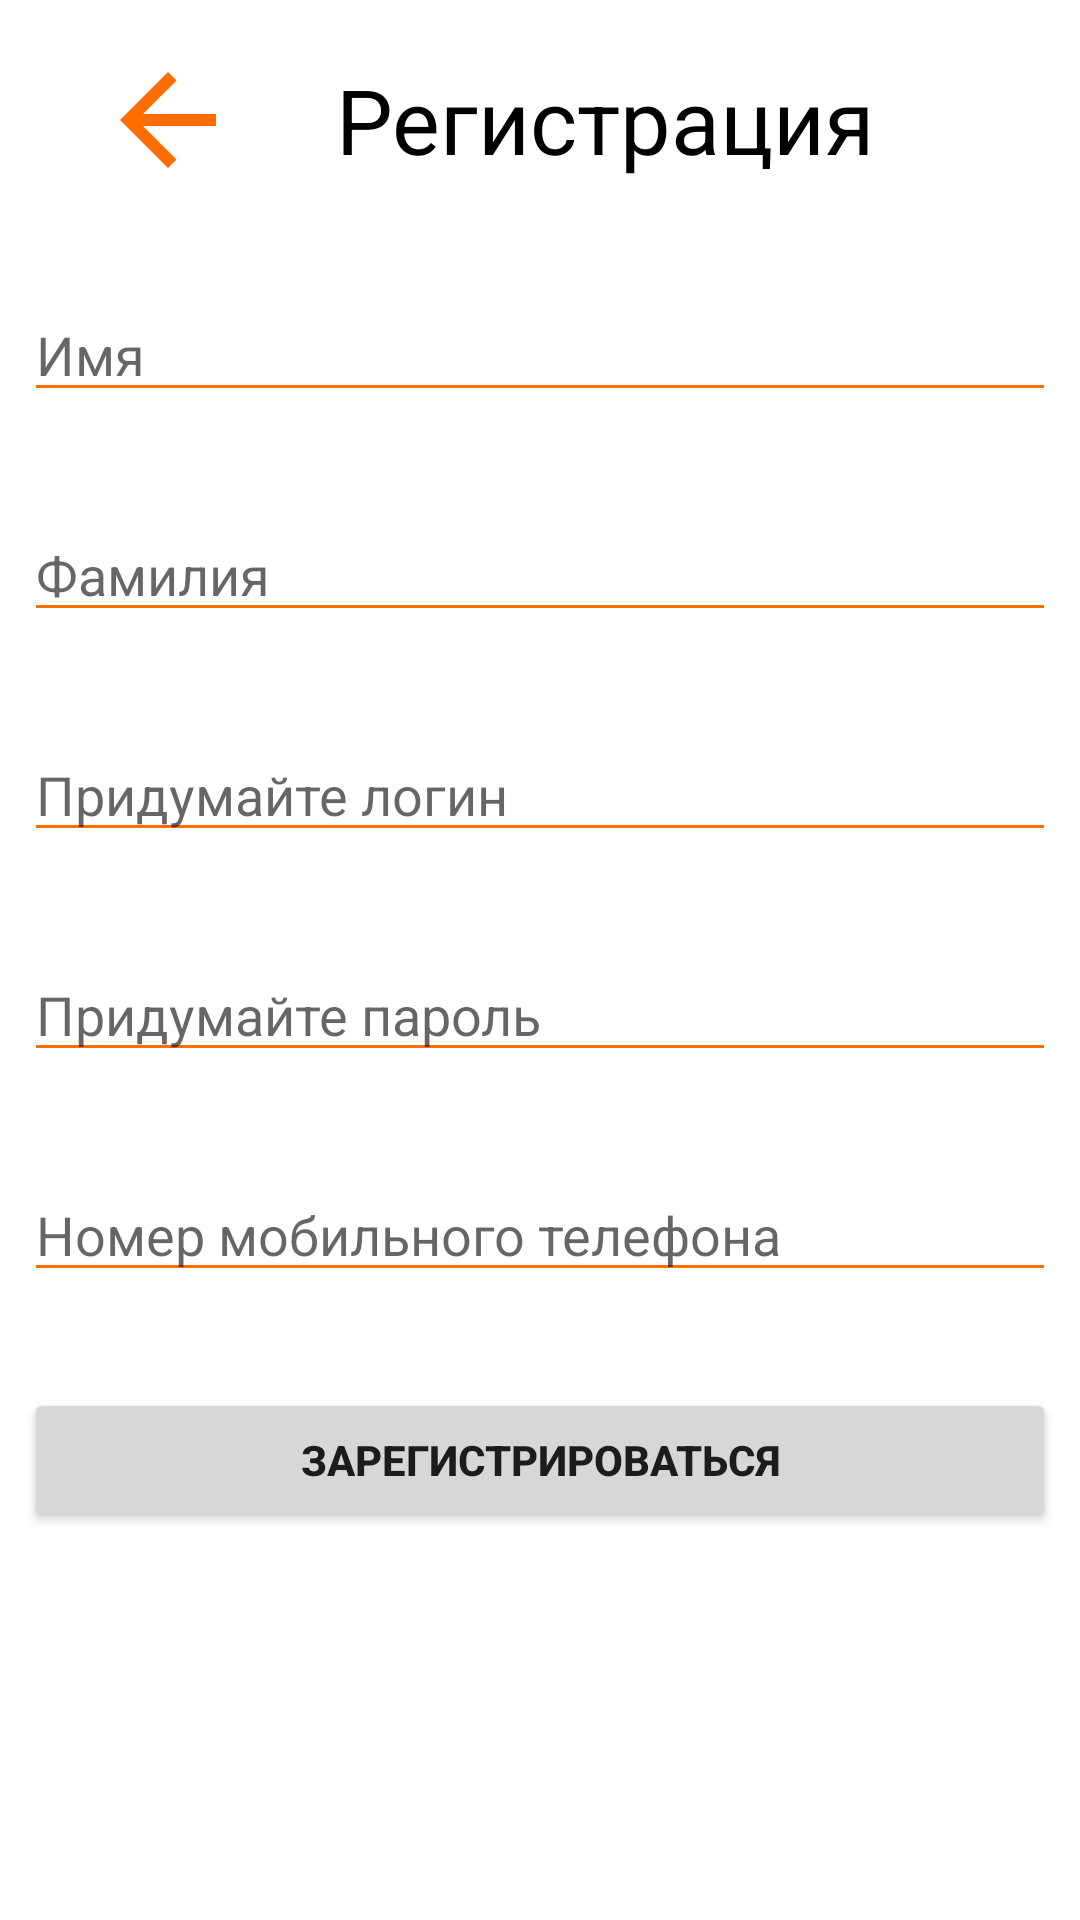

Named icons in this screenshot (1080 × 1920) and their bounding boxes, (x1, y1, x2, y2):
arrow back: (120, 72, 216, 168)
